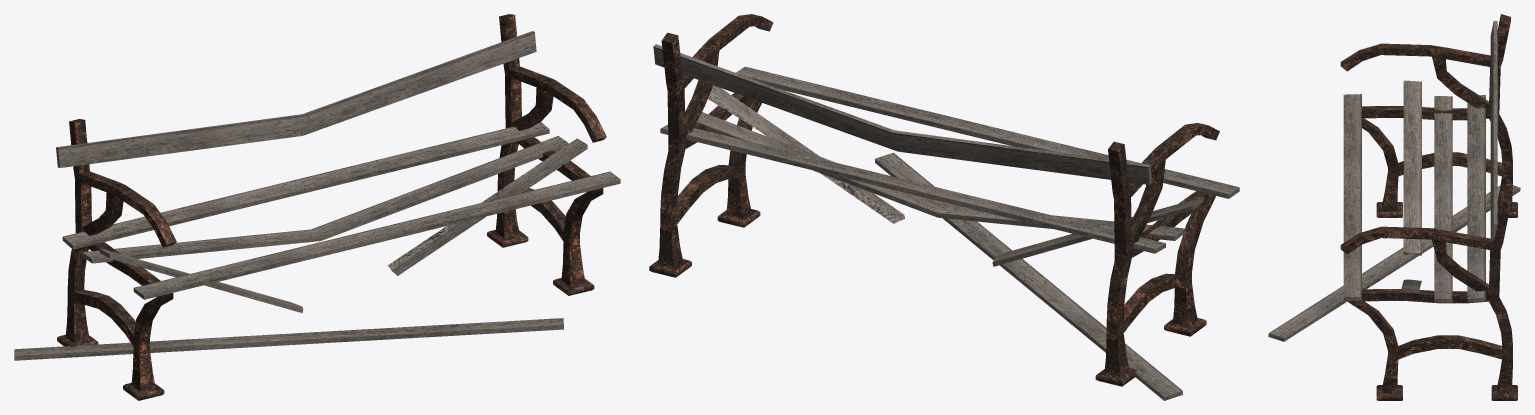
The model's file is bench_LOD0.fbx.
3 renders of one model, left to right at view 1: azimuth 30°, elevation 25°; view 2: azimuth 150°, elevation 25°; view 3: azimuth 270°, elevation 25°, orthographic. The views are drawn at different scales.
Visible parts, largest first — view 1: bench_LOD0; view 2: bench_LOD0; view 3: bench_LOD0.
Boxes of the visible parts, x1,y1,x2,y2 form: bench_LOD0: (14, 14, 620, 400); bench_LOD0: (649, 14, 1239, 400); bench_LOD0: (1268, 14, 1520, 400).
Bounding box in the file's own units: 1.98 × 0.8382 × 0.967.
